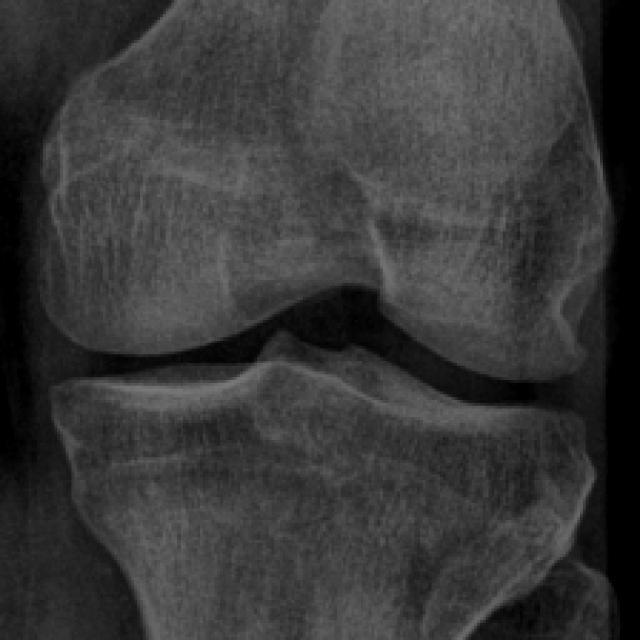femur: (37, 1, 616, 381)
tibia: (53, 361, 595, 640)
